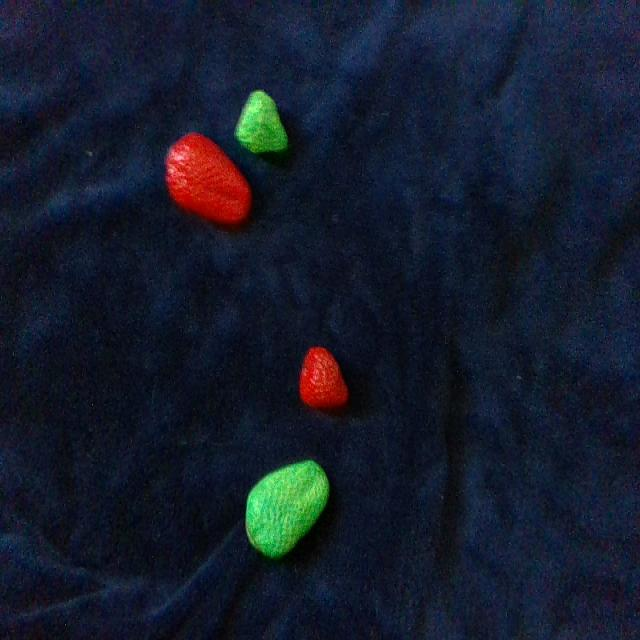chica_roja: (299, 348, 348, 409)
grande_roja: (166, 133, 251, 224)
verde: (247, 460, 328, 557), (235, 91, 287, 153)
